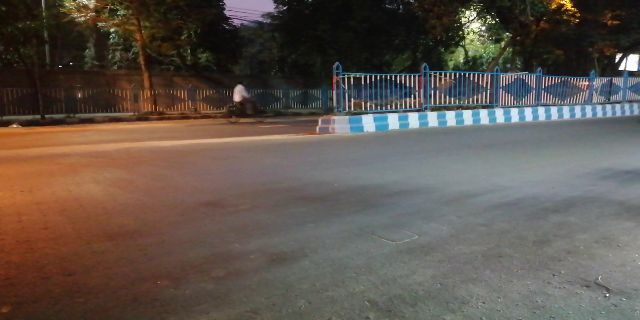Cycle: (220, 82, 271, 128)
